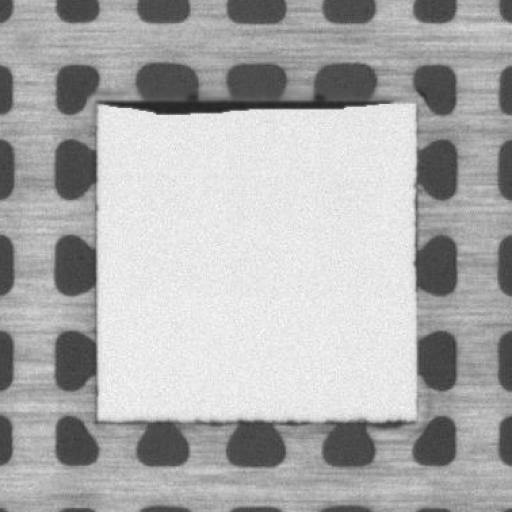DIE_BROKEN: (105, 92, 389, 119)
